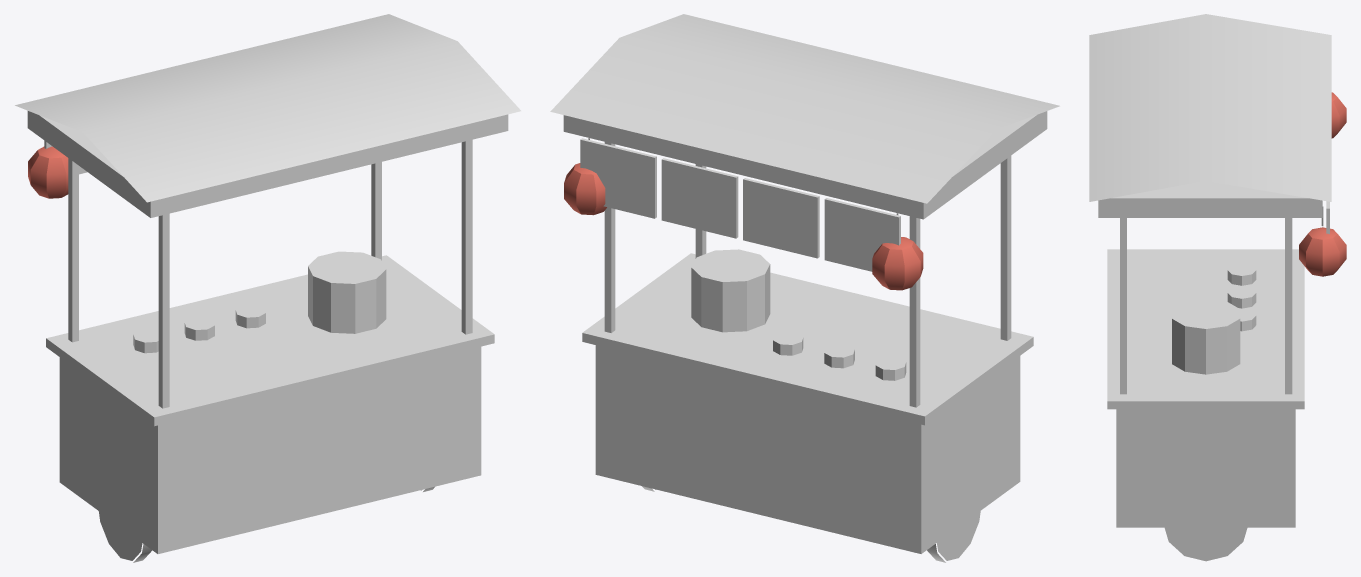
Rendered from food_cart.glb.
The picture shows the model from 3 angles, left to right: view 1: azimuth 30°, elevation 25°; view 2: azimuth 150°, elevation 25°; view 3: azimuth 270°, elevation 25°; orthographic projection. The views are drawn at different scales.
Parts seen in each view (by area): view 1: food_cart; view 2: food_cart; view 3: food_cart.
Part boxes in pixels (x1,y1,x2,y2): food_cart: [15, 14, 520, 562]; food_cart: [550, 14, 1059, 562]; food_cart: [1089, 14, 1346, 561].
Size of the model in its own units: 2.2 by 2.45 by 1.43.
